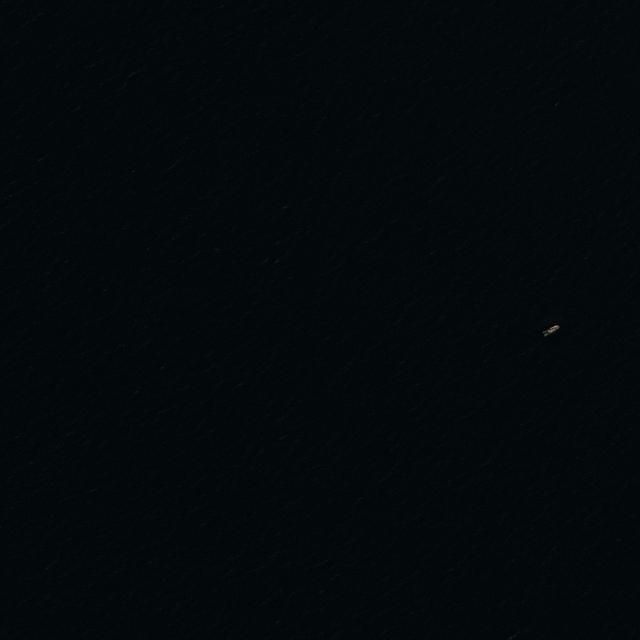Other Ship: (542, 324, 561, 337)
